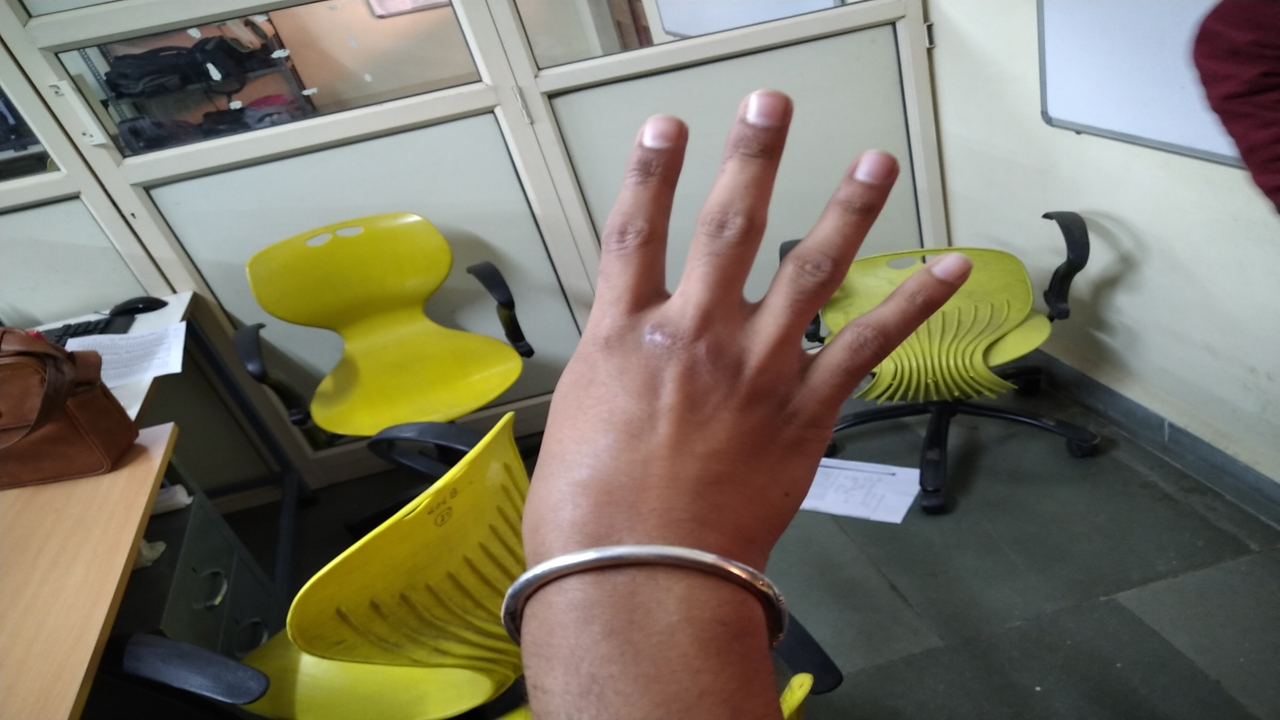fingertip: (732, 80, 798, 140), (626, 106, 690, 162), (842, 140, 906, 196), (924, 244, 974, 290)
